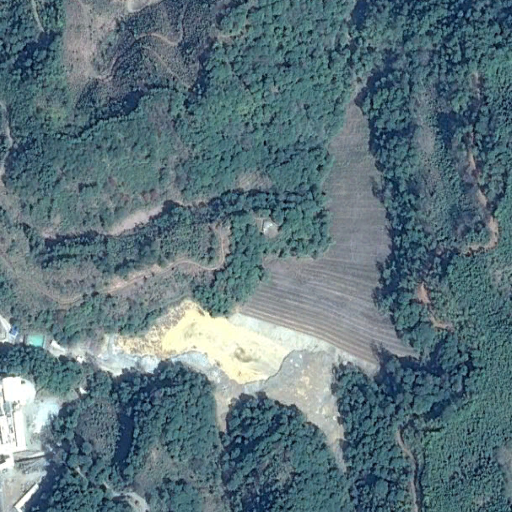tp: (42, 98, 417, 473)
